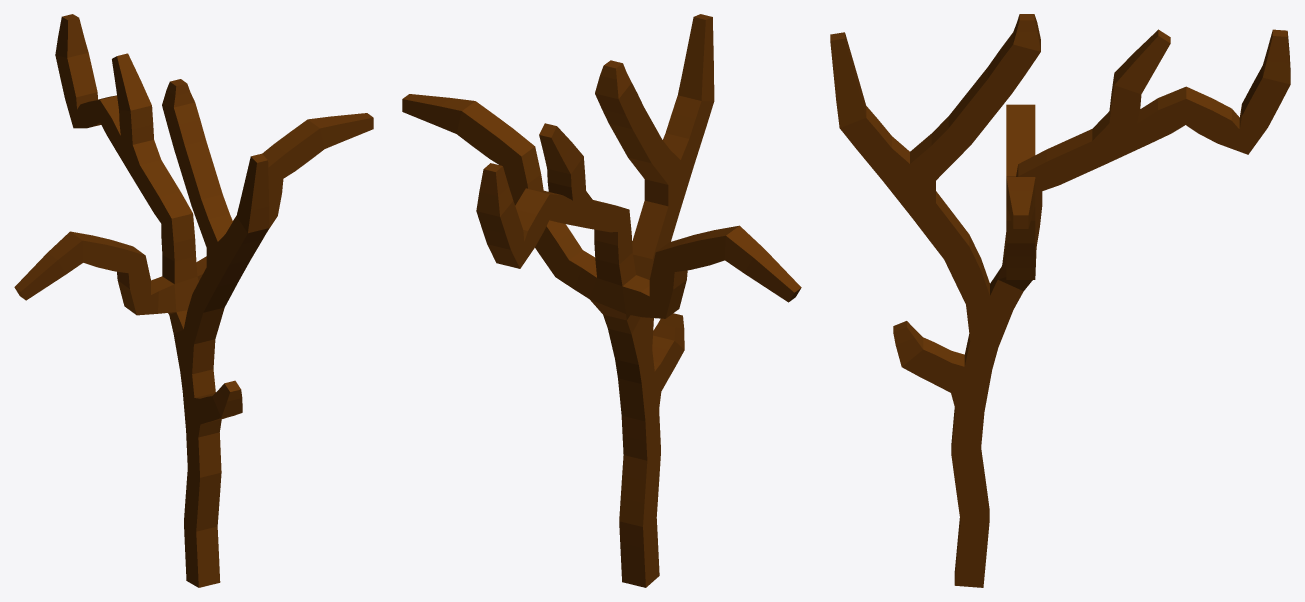
File: Small Dead Tree.fbx
3 renders of one model, left to right at view 1: azimuth 30°, elevation 25°; view 2: azimuth 150°, elevation 25°; view 3: azimuth 270°, elevation 25°, orthographic. The views are drawn at different scales.
Visible parts, largest first — view 1: Circle.003; view 2: Circle.003; view 3: Circle.003.
Part boxes in pixels (left/top/right/bottom): Circle.003: left=14, top=14, right=373, bottom=587; Circle.003: left=402, top=14, right=801, bottom=587; Circle.003: left=830, top=14, right=1290, bottom=587.
Bounding box in the file's own units: 255 × 333 × 246.
